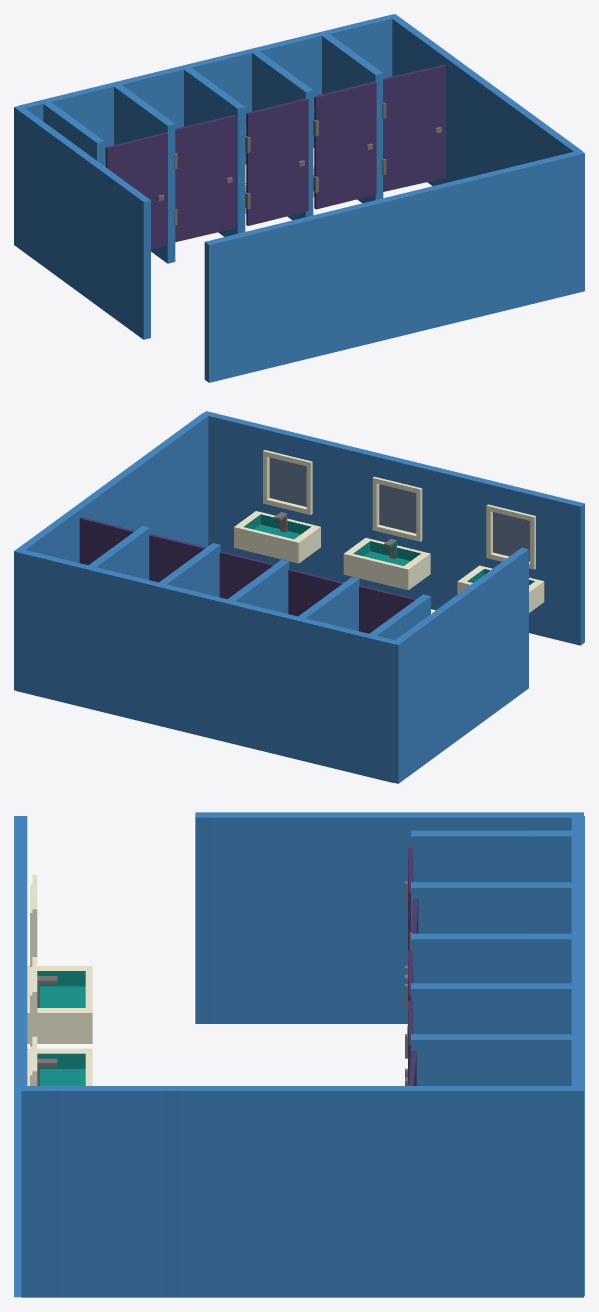
Rendered from SM_Toilet.fbx.
The picture shows the model from 3 angles, top to bottom: view 1: azimuth 30°, elevation 25°; view 2: azimuth 150°, elevation 25°; view 3: azimuth 270°, elevation 25°; orthographic projection. The views are drawn at different scales.
Parts seen in each view (by area): view 1: SM_Toilet, SM_T_Door4, SM_T_Door3, SM_T_Door2, SM_T_Door1, SM_T_Door; view 2: SM_Toilet, SM_T_Door, SM_T_Door3, SM_T_Door4, SM_T_Door1, SM_T_Door2; view 3: SM_Toilet.
Part boxes in pixels (x1,y1,x2,y2): SM_Toilet: [14, 14, 584, 382]; SM_T_Door4: [382, 65, 445, 191]; SM_T_Door3: [313, 81, 376, 209]; SM_T_Door2: [245, 98, 308, 225]; SM_T_Door1: [174, 115, 236, 242]; SM_T_Door: [105, 132, 167, 249]; SM_Toilet: [14, 411, 584, 783]; SM_T_Door: [359, 585, 416, 633]; SM_T_Door3: [149, 534, 206, 582]; SM_T_Door4: [79, 517, 134, 565]; SM_T_Door1: [288, 569, 343, 616]; SM_T_Door2: [219, 551, 274, 599]; SM_Toilet: [14, 812, 584, 1297].
Size of the model in its own units: 674 by 233 by 583.
1 material, 1 textured.
